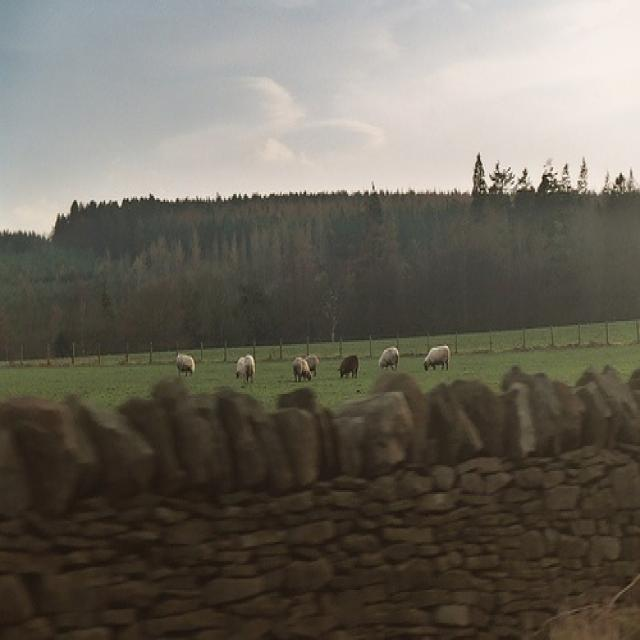sheep: (422, 340, 457, 377), (288, 354, 319, 384), (233, 352, 259, 384), (339, 350, 362, 382), (379, 344, 403, 373), (174, 350, 200, 375)
